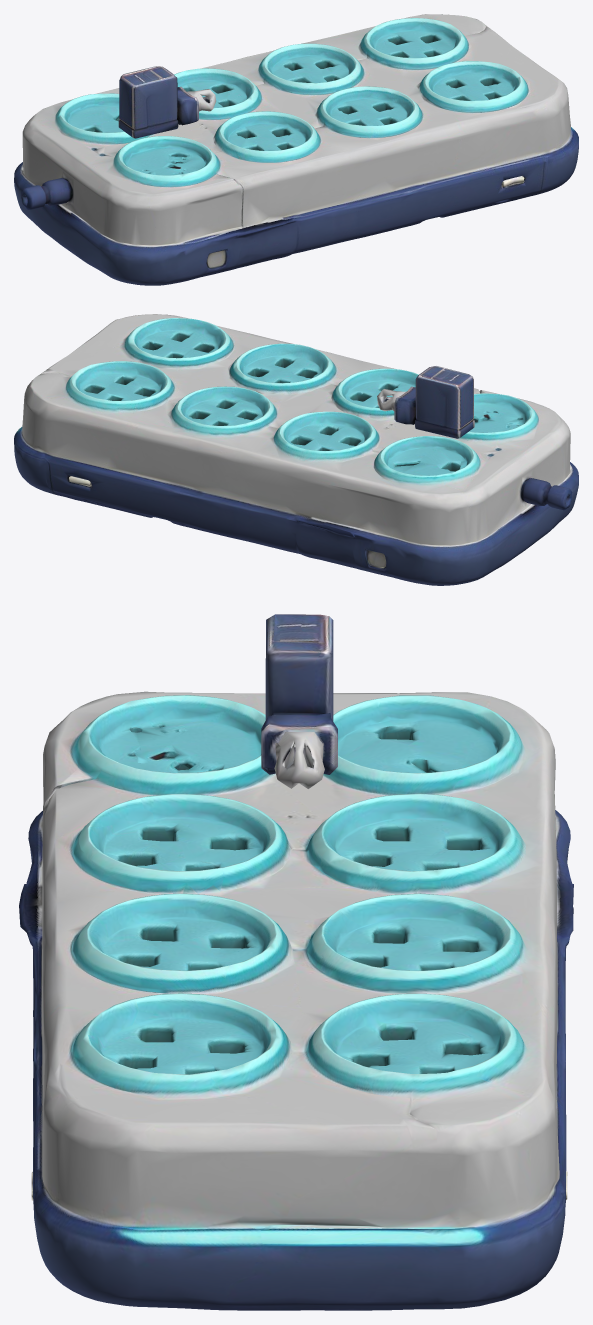
File: broadband.glb
The picture shows the model from 3 angles, top to bottom: view 1: azimuth 30°, elevation 25°; view 2: azimuth 150°, elevation 25°; view 3: azimuth 270°, elevation 25°; orthographic projection. The views are drawn at different scales.
Visible parts, largest first — view 1: tripo_node_e9fd53b5-f58a-4499-9d18-00080f5ccadb; view 2: tripo_node_e9fd53b5-f58a-4499-9d18-00080f5ccadb; view 3: tripo_node_e9fd53b5-f58a-4499-9d18-00080f5ccadb.
Boxes of the visible parts, box(x1,y1,x2,y2) form: tripo_node_e9fd53b5-f58a-4499-9d18-00080f5ccadb: box(14, 14, 578, 285); tripo_node_e9fd53b5-f58a-4499-9d18-00080f5ccadb: box(14, 314, 578, 585); tripo_node_e9fd53b5-f58a-4499-9d18-00080f5ccadb: box(19, 614, 573, 1310).
Bounding box in the file's own units: 0.9807 × 0.2922 × 0.4621.
Materials: 1 (1 with a texture image).
